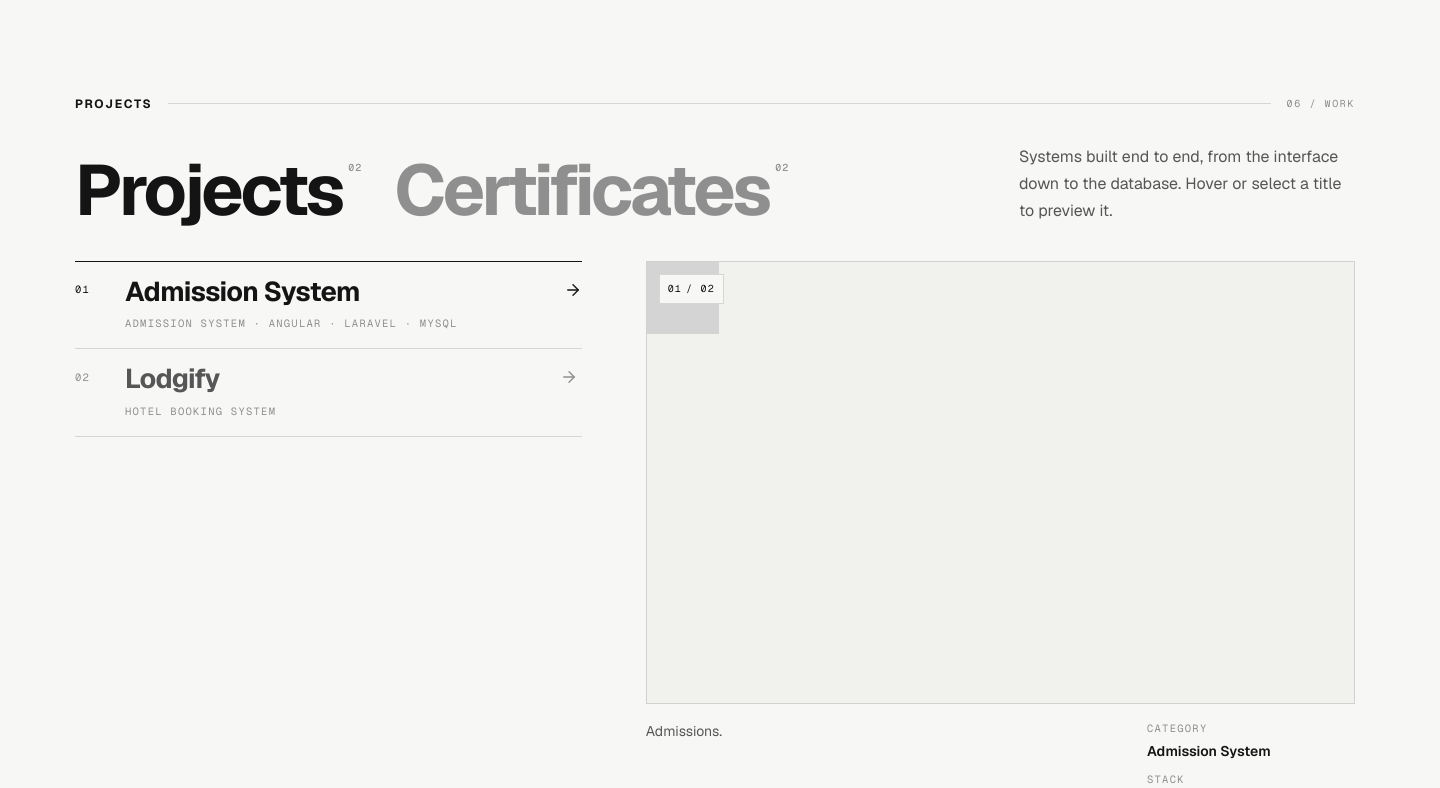
Test case: Projects showcase on desktop › previews certificates with their issuer and PDF link
Click the tab "Certificates 02" at coordinates (592, 191), box [394,157,789,224]
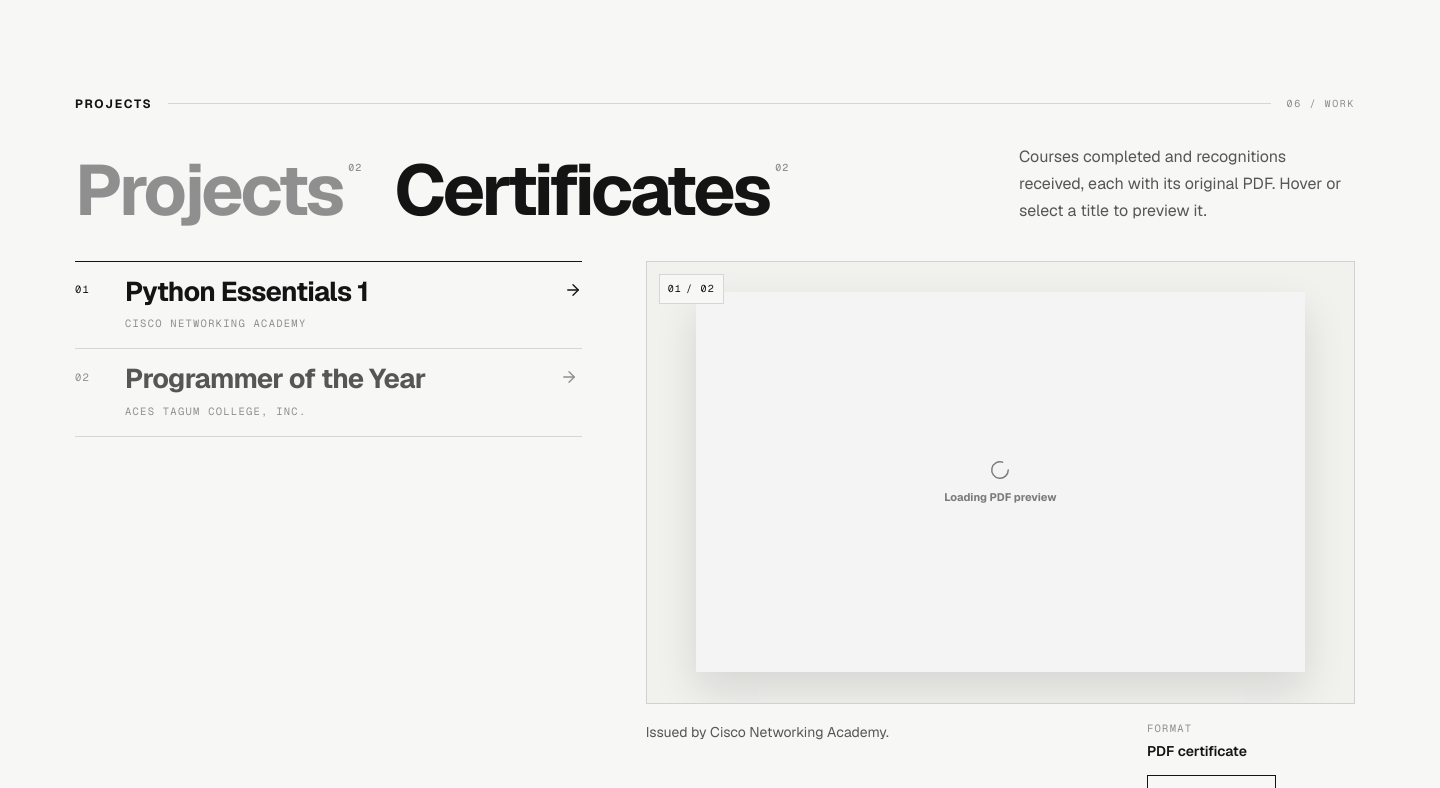
Click the button "02 Programmer of the Year Aces Tagum College, Inc." at coordinates (328, 392), box [75,348,582,436]
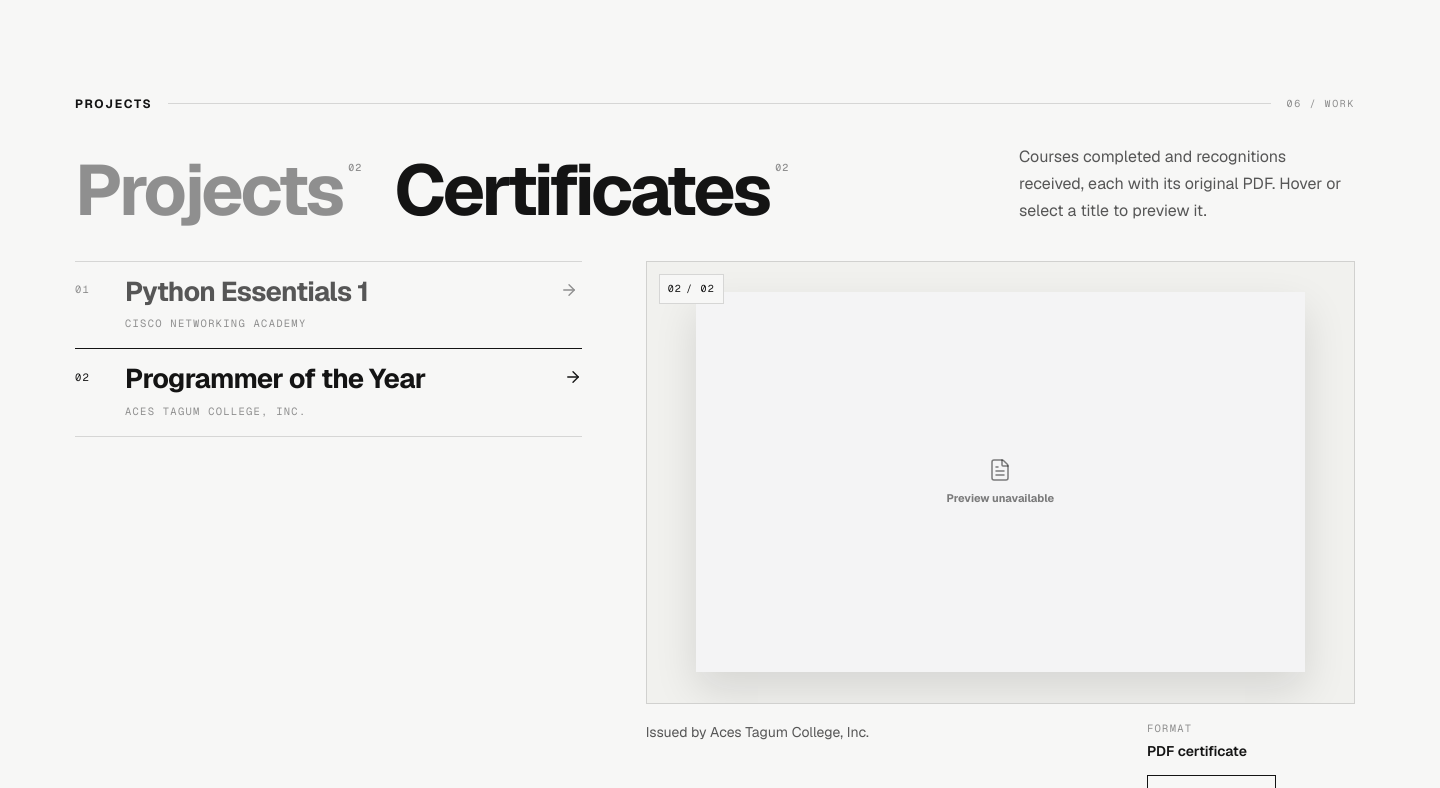
Expected: the text "Issued by Aces Tagum College, Inc." is shown, [646,723,869,741]
